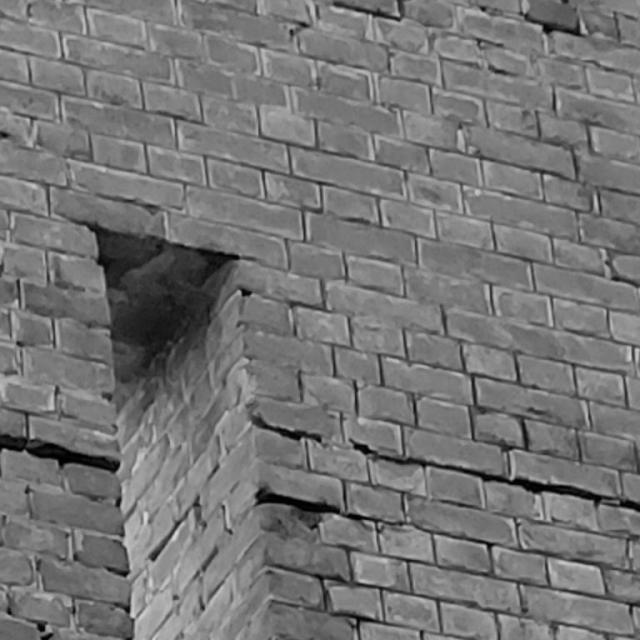crack: (250, 413, 640, 510), (1, 432, 118, 472), (254, 488, 367, 520)
